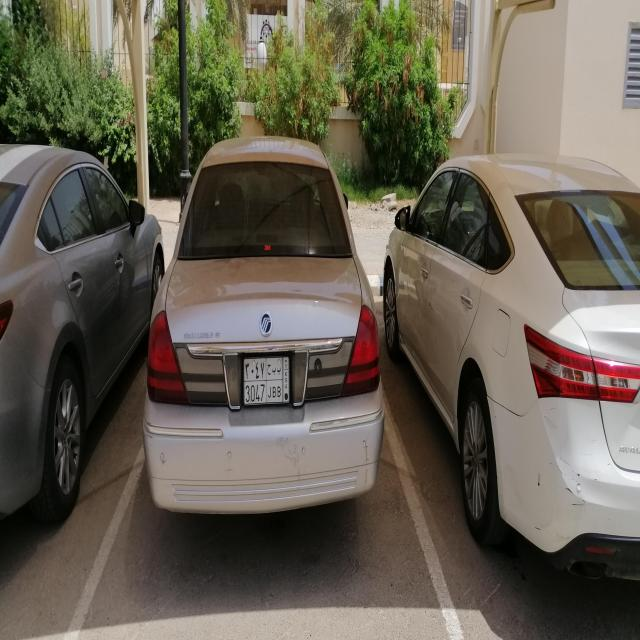license_plate: (243, 357, 291, 405)
